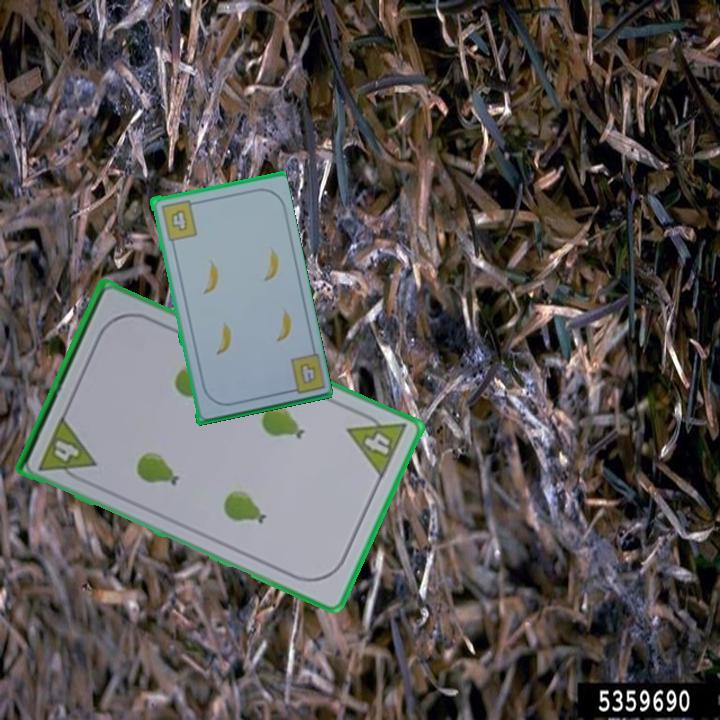4b: (282, 350, 326, 396), (157, 196, 200, 243)
4p: (344, 405, 410, 482), (35, 412, 99, 486)
